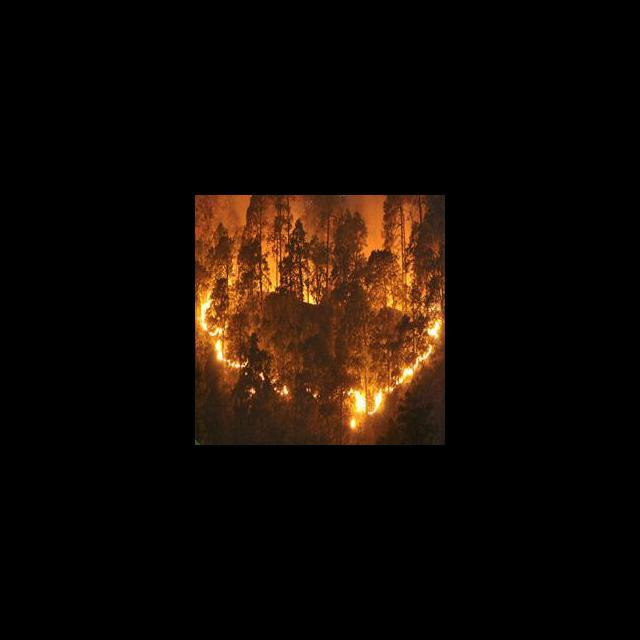Fire: (340, 314, 445, 429), (195, 288, 290, 400)
